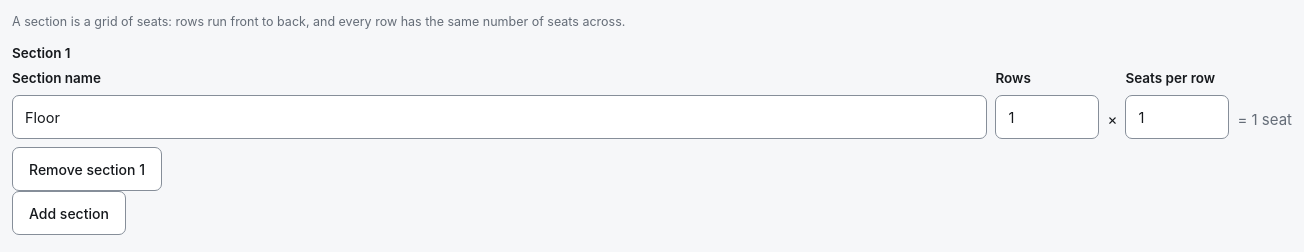
SectionLines (spec 024 US3) › shows 10 × 20 as "= 200 seats"
The width and height of the screenshot is (1304, 252).
Replace the text in the number field named "Section 1 Rows" with "10" at {"x": 1048, "y": 117}, box [996, 95, 1100, 139]
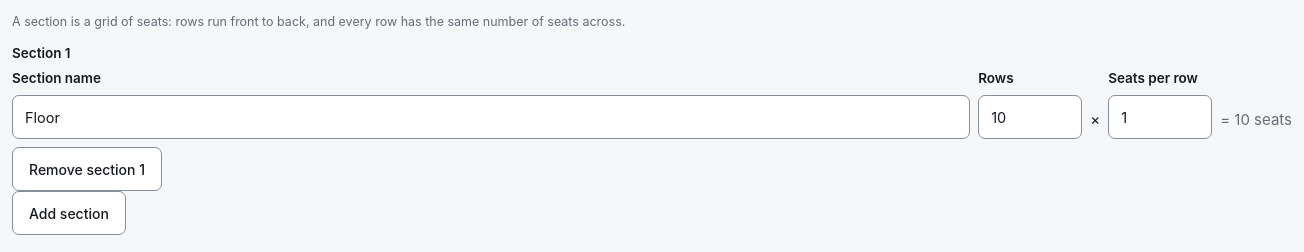
Replace the text in the number field named "Section 1 Seats per row" with "20" at {"x": 1160, "y": 117}, box [1108, 95, 1212, 139]
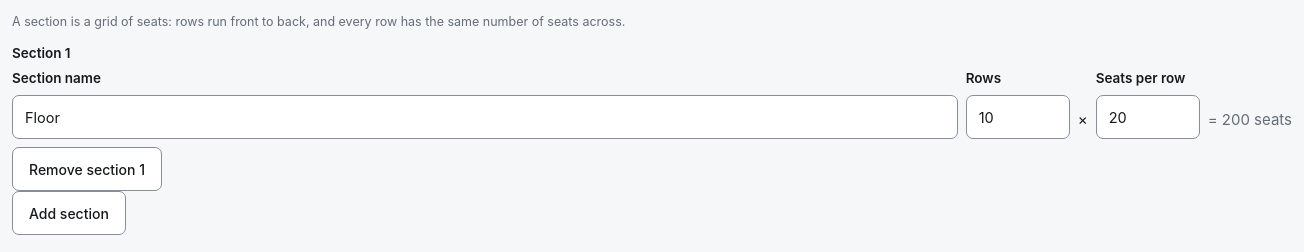
Check: the text "= 200 seats" is shown, box [1208, 108, 1292, 139]
